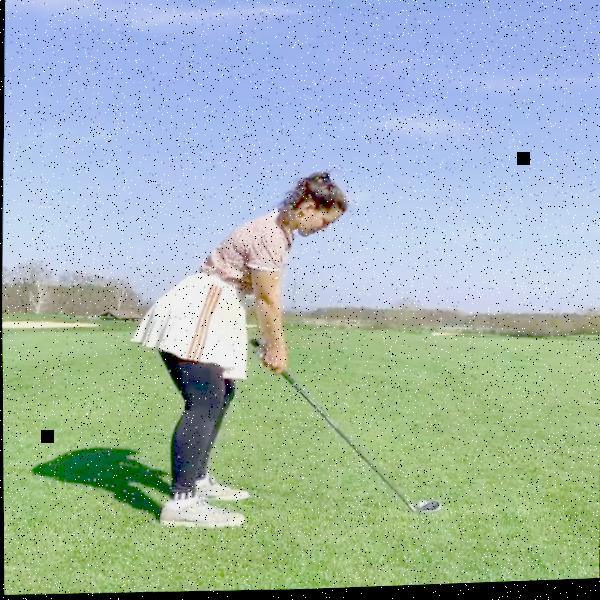ClubHead: (416, 503, 439, 515)
GolfBall: (417, 505, 426, 511)
